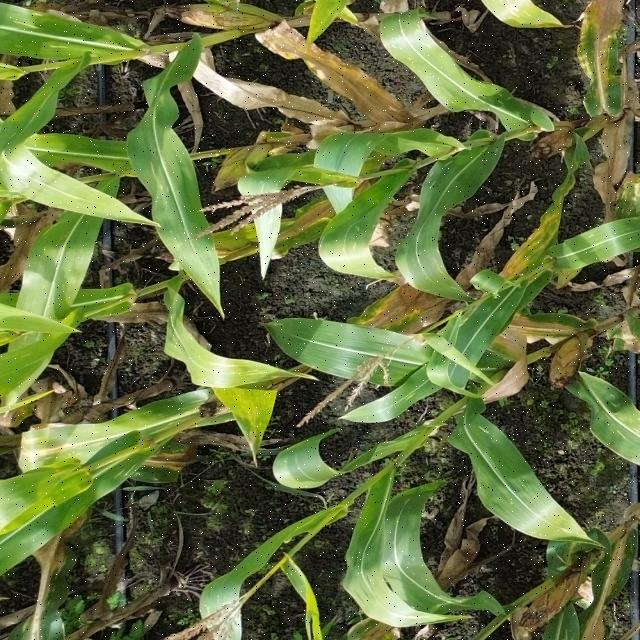gray-leaf-spot: (37, 411, 168, 461), (6, 8, 81, 53), (142, 148, 192, 198), (598, 383, 638, 444), (468, 81, 528, 119), (388, 10, 431, 61), (230, 388, 275, 434), (421, 158, 461, 197), (98, 460, 151, 485)
northern-leaf-blight: (22, 522, 78, 630), (266, 200, 344, 252), (574, 35, 624, 108), (588, 543, 627, 624), (507, 308, 579, 340), (607, 314, 640, 354)
